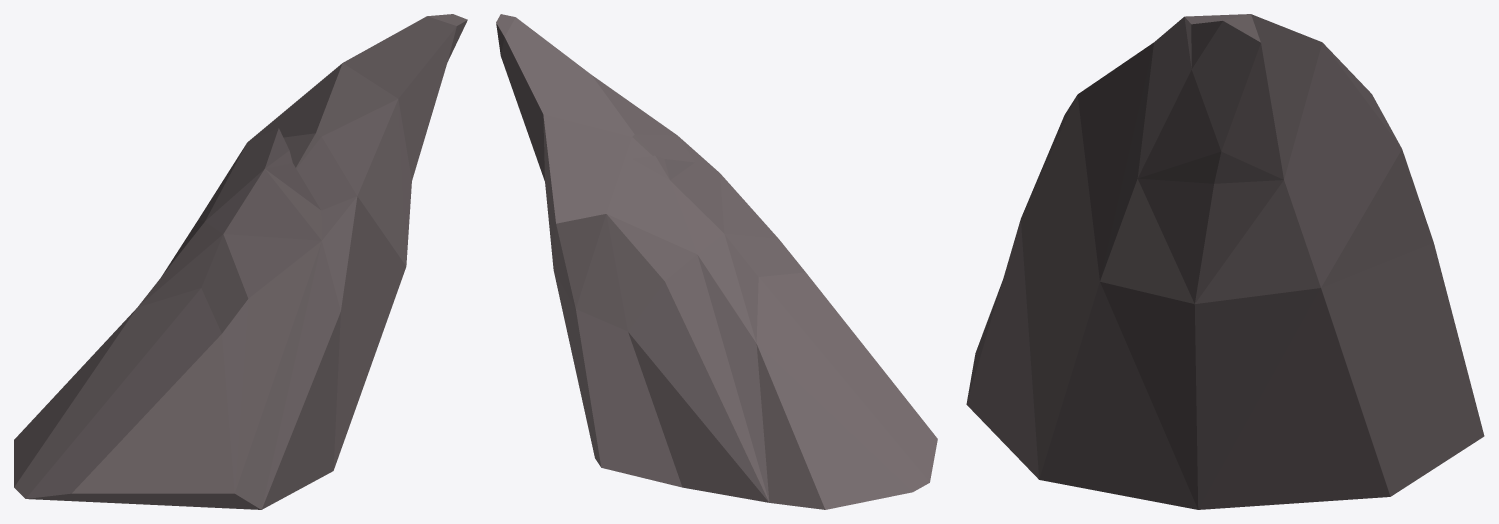
The model's file is Rock_Sharp_l_02.fbx.
The picture shows the model from 3 angles, left to right: view 1: azimuth 30°, elevation 25°; view 2: azimuth 150°, elevation 25°; view 3: azimuth 270°, elevation 25°; orthographic projection. The views are drawn at different scales.
Parts seen in each view (by area): view 1: Rock_Sharp_l_02; view 2: Rock_Sharp_l_02; view 3: Rock_Sharp_l_02.
Boxes of the visible parts, left/top/right/bottom form: Rock_Sharp_l_02: left=14, top=14, right=467, bottom=509; Rock_Sharp_l_02: left=496, top=14, right=937, bottom=509; Rock_Sharp_l_02: left=966, top=14, right=1484, bottom=509.
Size of the model in its own units: 8.68 by 7.02 by 5.5.
